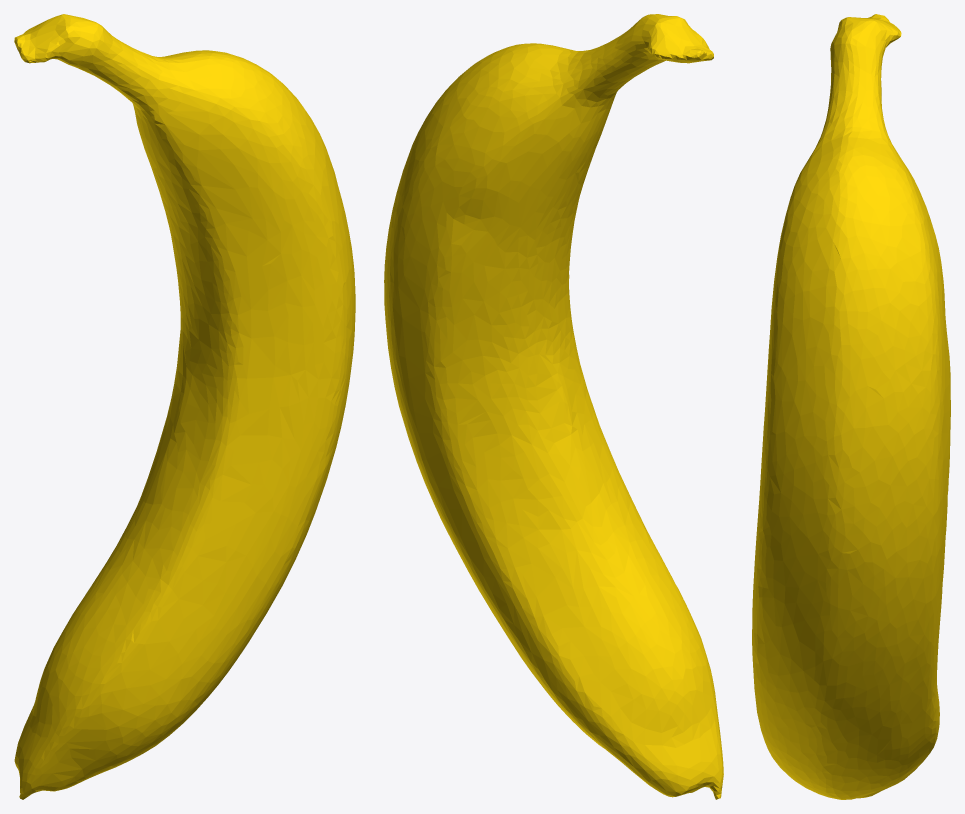
File: banana.glb
3 renders of one model, left to right at view 1: azimuth 30°, elevation 25°; view 2: azimuth 150°, elevation 25°; view 3: azimuth 270°, elevation 25°, orthographic. The views are drawn at different scales.
Parts seen in each view (by area): view 1: banana; view 2: banana; view 3: banana.
Boxes of the visible parts, box(x1,y1,x2,y2) form: banana: box(14, 14, 355, 799); banana: box(384, 14, 723, 799); banana: box(752, 14, 950, 799).
Bounding box in the file's own units: 80.49 × 182 × 41.78.
